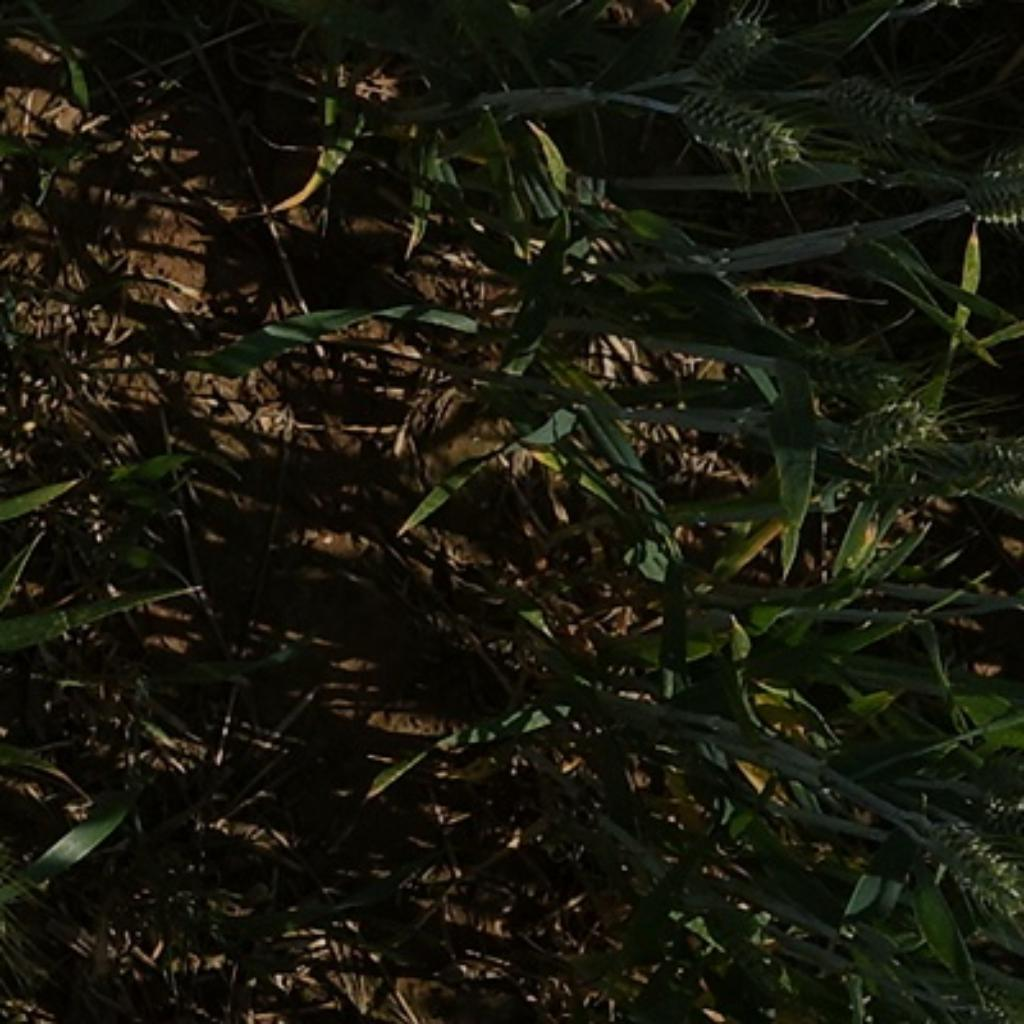0-0: (917, 803, 1024, 920), (666, 92, 809, 179), (816, 69, 947, 143), (824, 391, 947, 463), (919, 434, 1024, 510), (790, 332, 896, 406), (691, 7, 783, 84), (950, 140, 1024, 235)
